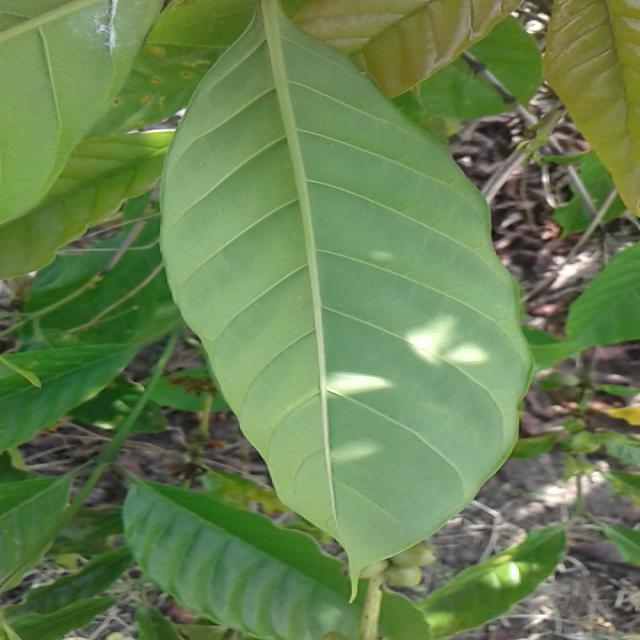Sanas: (158, 0, 606, 588)
